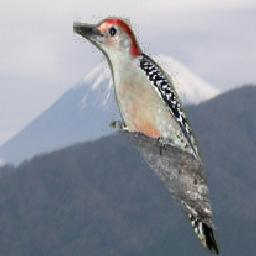Woodpecker: (74, 15, 221, 255)
